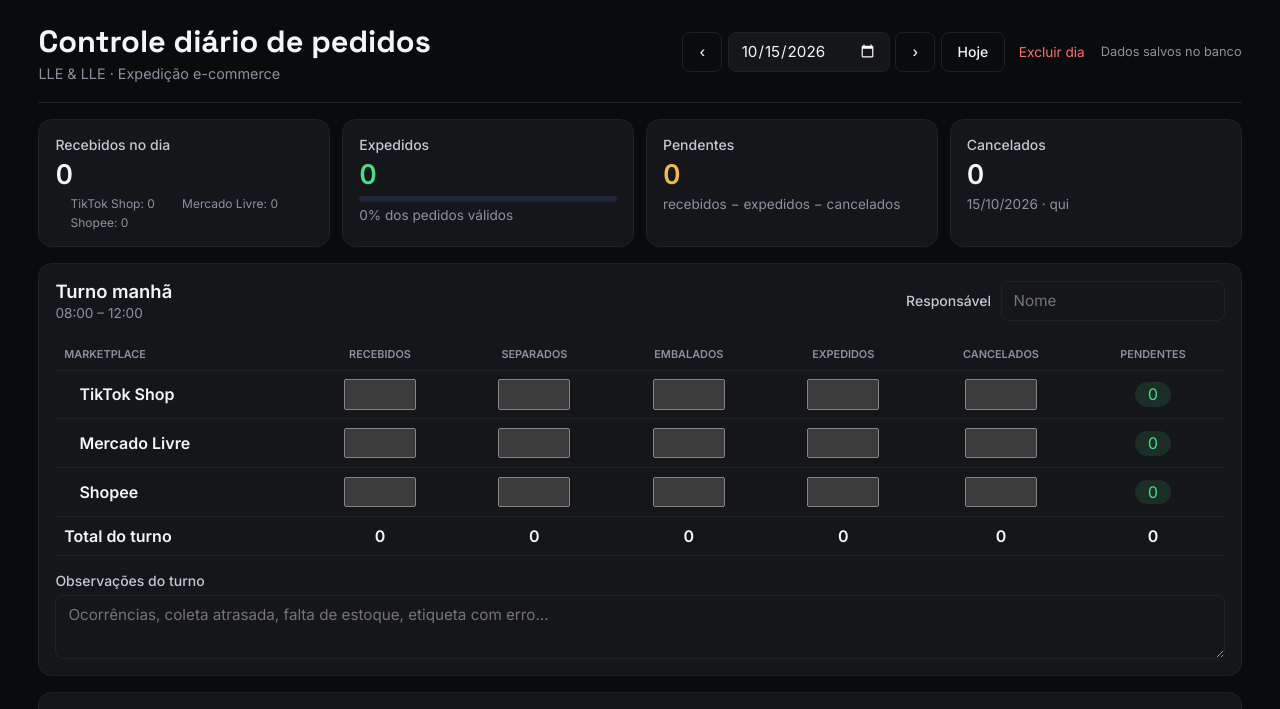
Test: ControlePedidos › carrega, calcula pendências e salva alterações automaticamente
The image size is (1280, 709).
Type "Tiago" into the field labelled "Responsável" in the row of "Turno manhã" at (1113, 301), box left=1001, top=281, right=1225, bottom=321
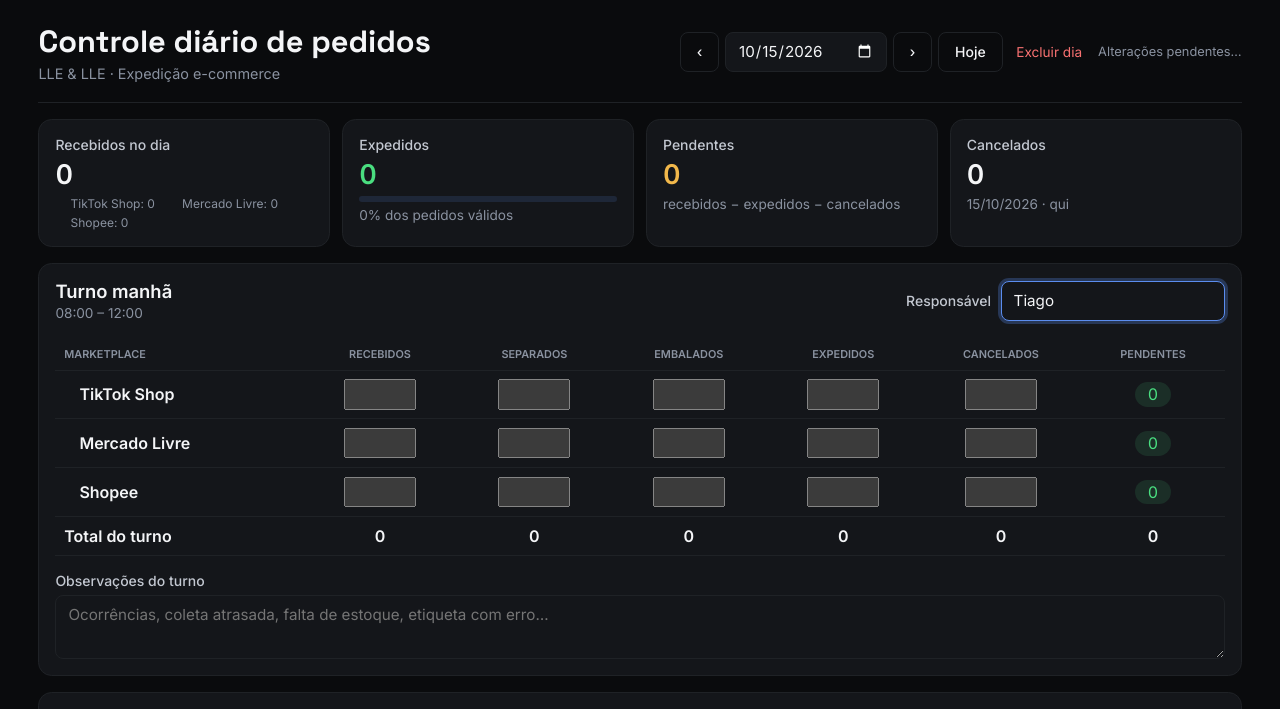
Type "12" into the number field named "TikTok Shop Recebidos Turno manhã" at (380, 394), box left=344, top=379, right=416, bottom=410
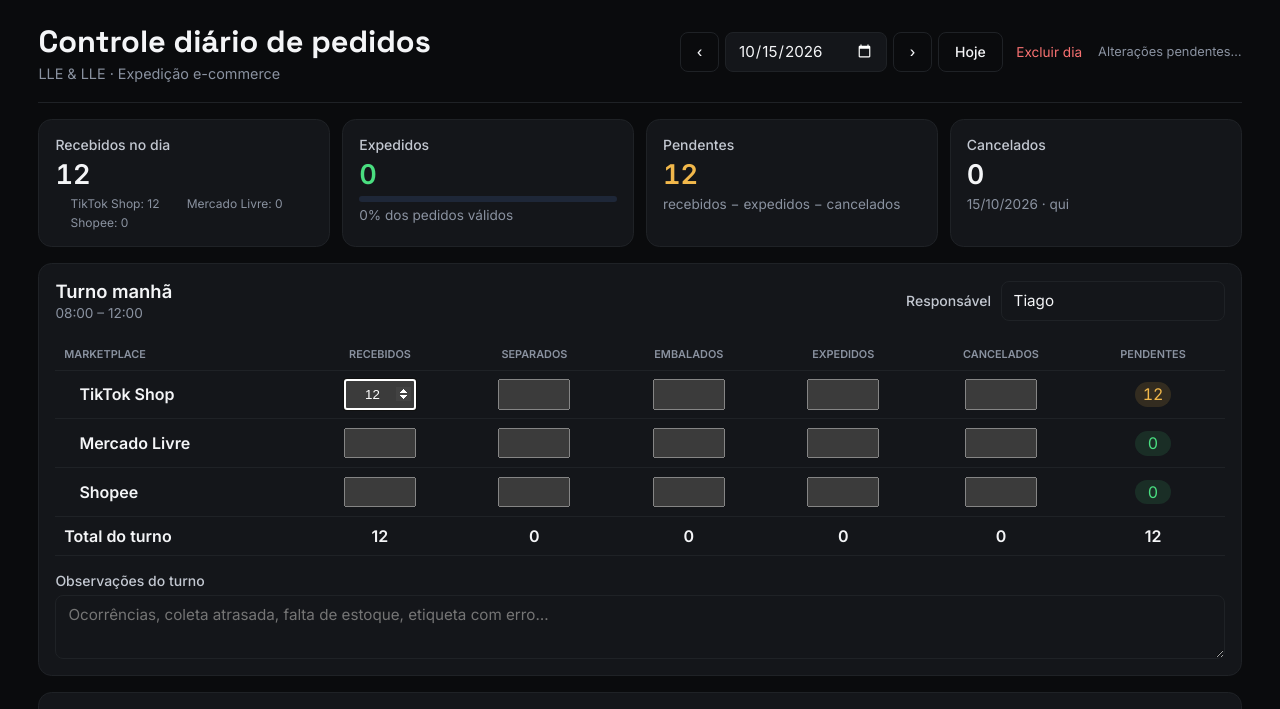
Type "5" into the number field named "TikTok Shop Expedidos Turno manhã" at (843, 394), box left=807, top=379, right=879, bottom=410
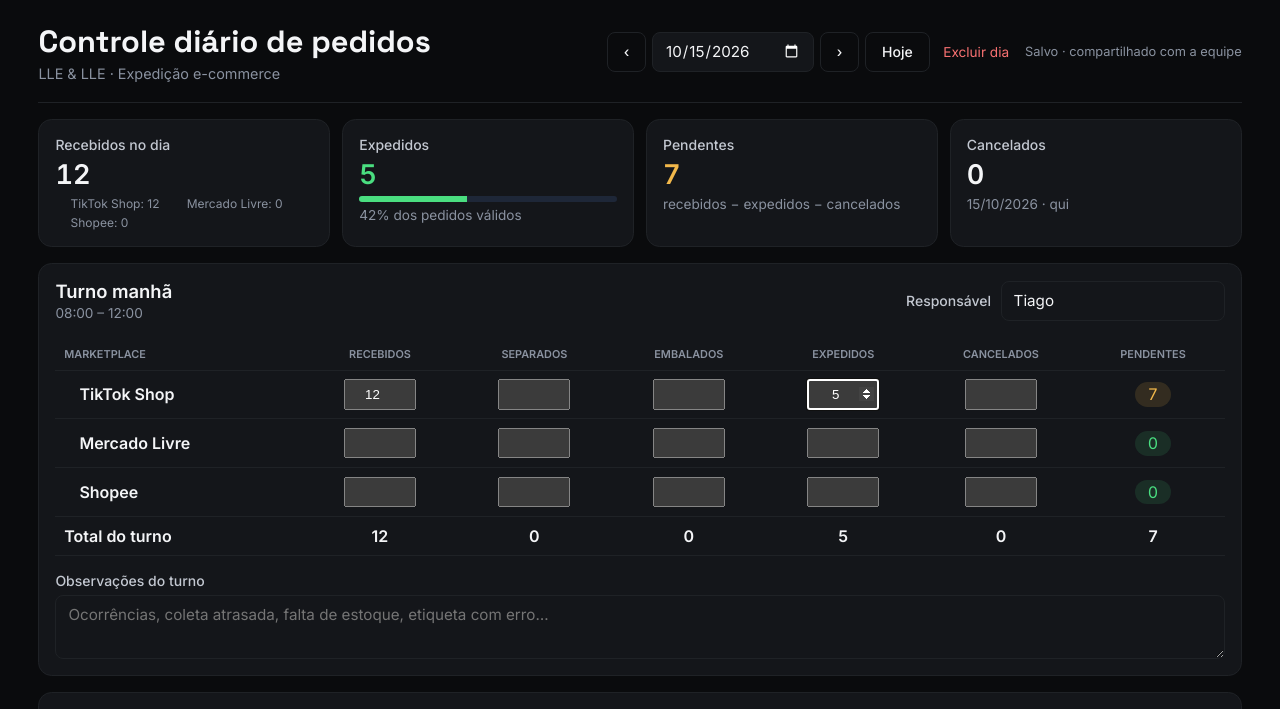
Expected: the 1st text "7" is shown, left=663, top=158, right=681, bottom=191
Expected: the message with class "controle-pedidos-status" shows "Salvo", left=1025, top=44, right=1242, bottom=60
